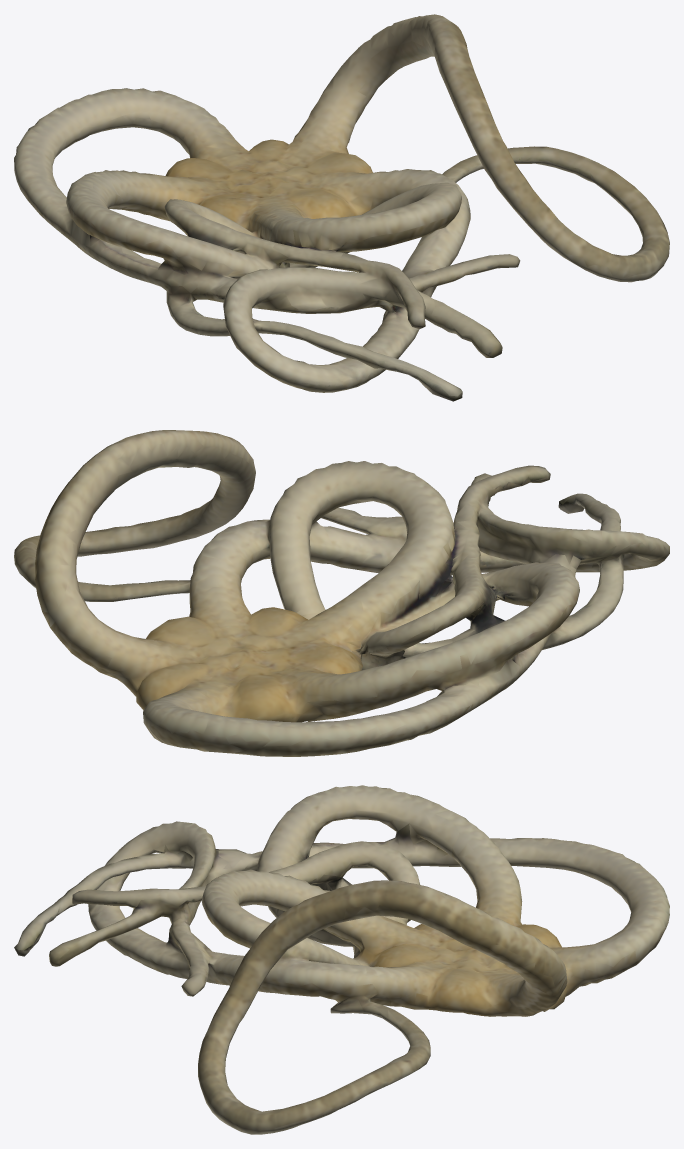
File: BrittleSeaStar.fbx
3 views of the same model, one above another, from view 1: azimuth 30°, elevation 25°; view 2: azimuth 150°, elevation 25°; view 3: azimuth 270°, elevation 25° (orthographic). The views are drawn at different scales.
Visible parts, largest first — view 1: Sharp fusion 1.001; view 2: Sharp fusion 1.001; view 3: Sharp fusion 1.001.
Part boxes in pixels (x1,y1,x2,y2): Sharp fusion 1.001: [14, 14, 669, 401]; Sharp fusion 1.001: [14, 430, 669, 756]; Sharp fusion 1.001: [14, 785, 669, 1134].
Size of the model in its own units: 42.49 by 15.56 by 48.64.
